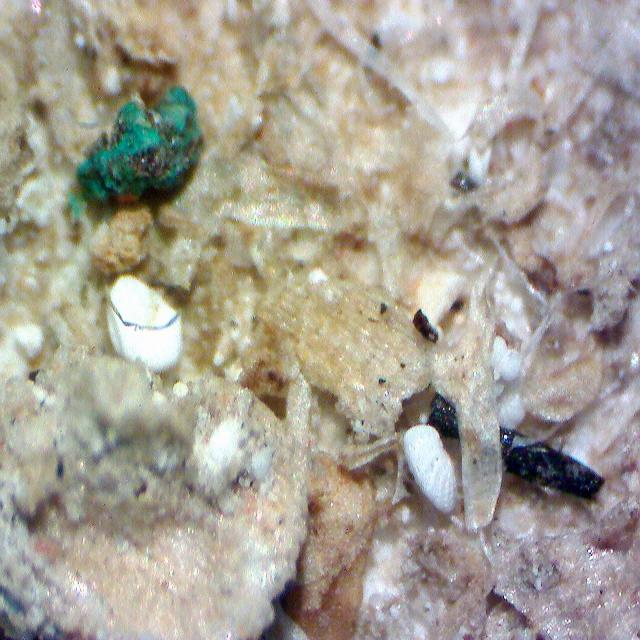microplastic: (78, 99, 206, 203)
